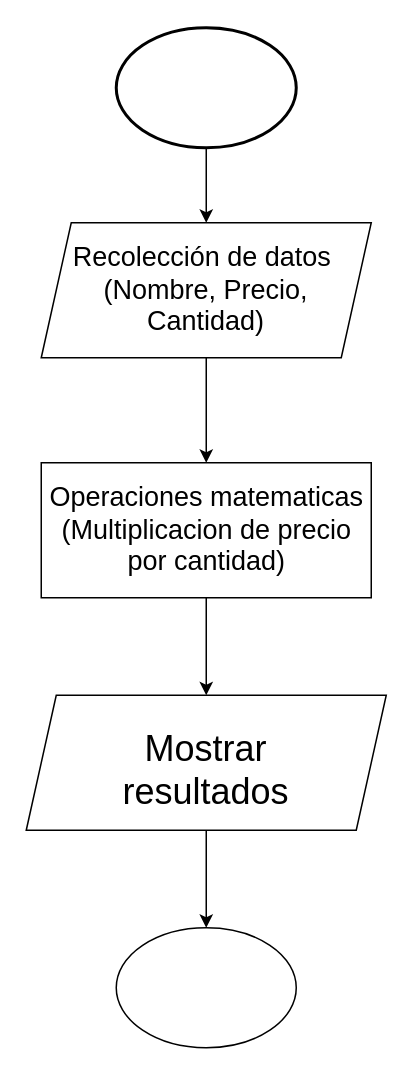
The diagram is 413 pixels wide and 1074 high, and some of its shapes have lost their labels. The centre of each missing label's shape, as x and y in pixels:
"Fin" belongs at (205,987).
"INICIO" belongs at (205,87).
